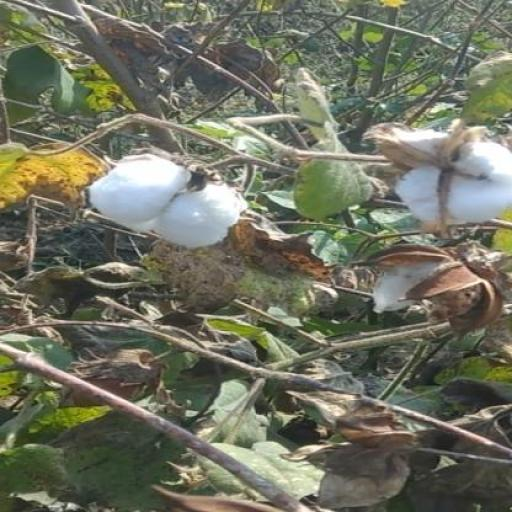cotton_ready: (74, 146, 256, 245), (354, 123, 511, 222)
